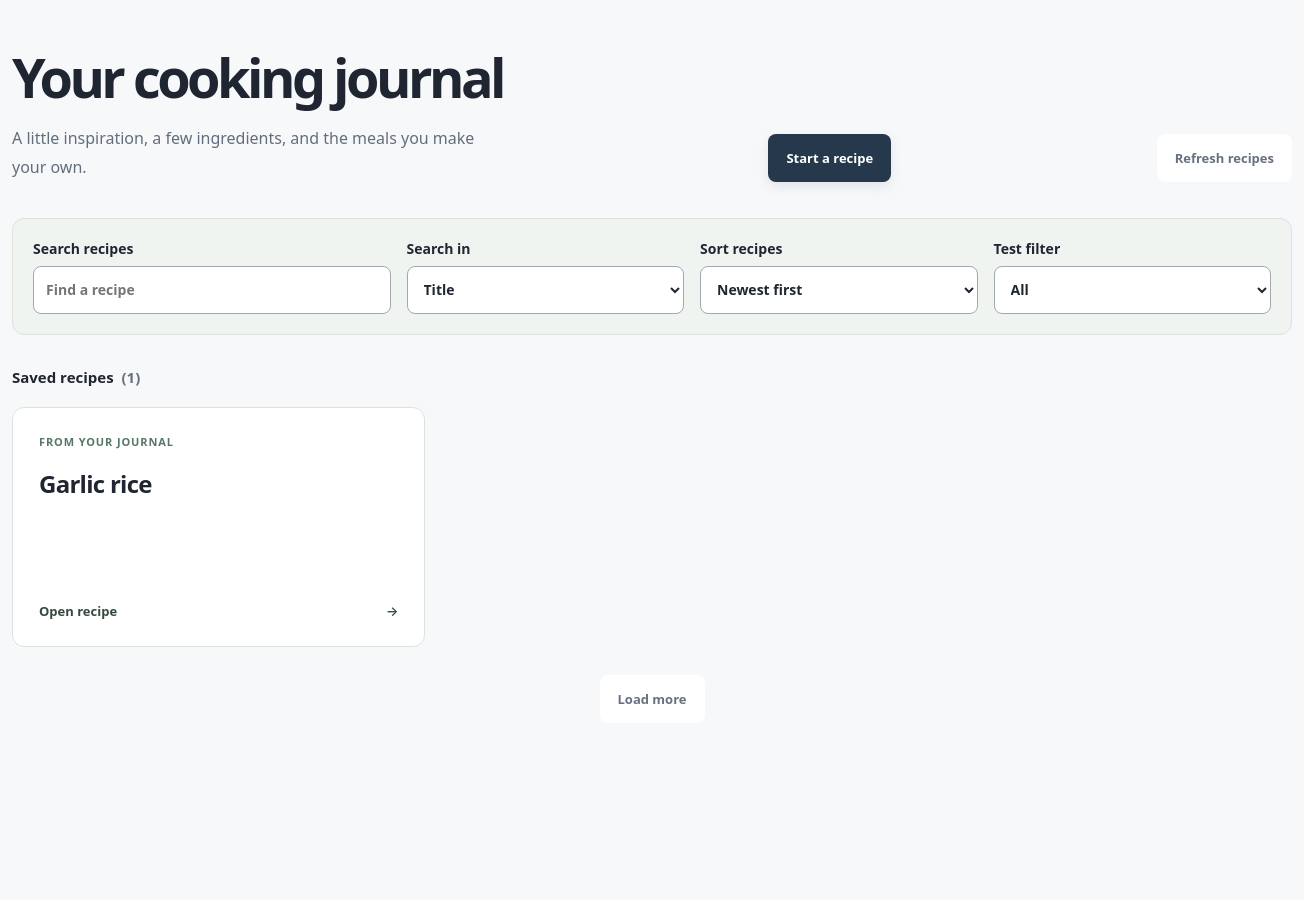
Test: retains loaded results after a next-page failure and retries the same continuation
This screenshot has width=1304, height=900.
Expected: the heading "Garlic rice" is shown, [39,467,152,500]
Click the button "Load more" at [652, 699], box [600,675,704,723]
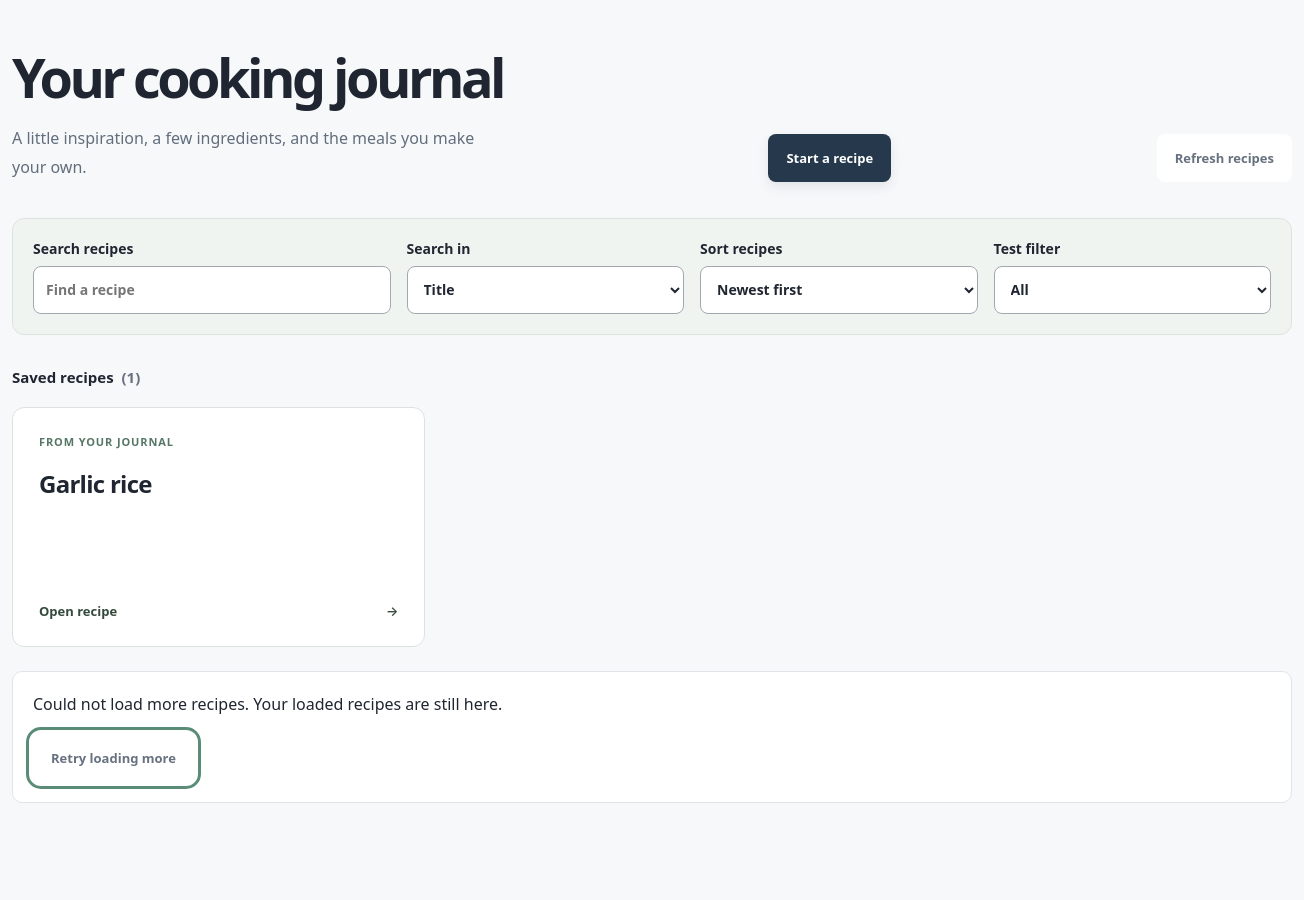
Expected: the heading "Garlic rice" is shown, [39,467,152,500]
Result: the message shows "Could not load more" at [33,693,502,715]
Click the button "Retry loading more" at [113, 758], box [33,734,194,782]
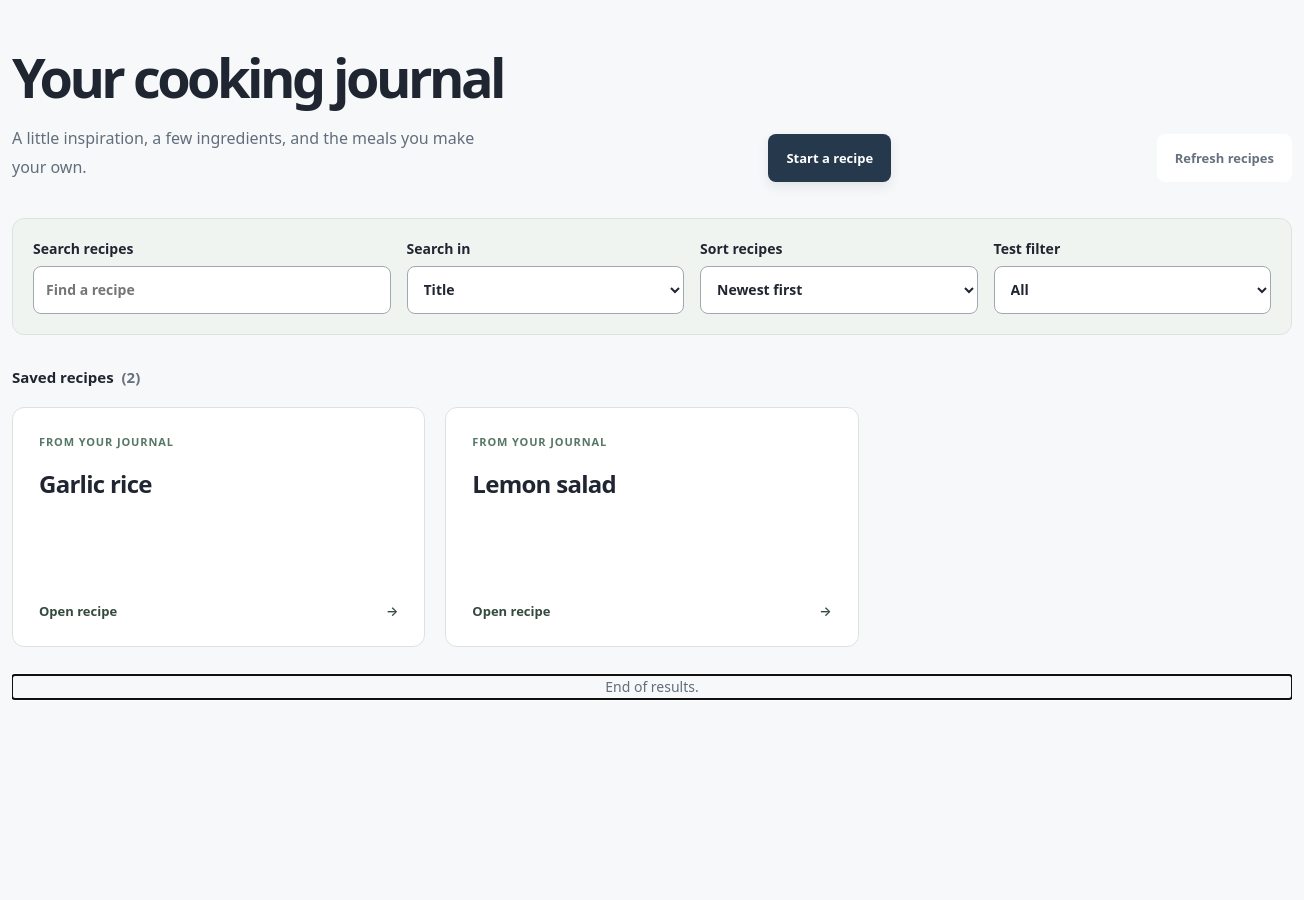
Expected: the heading "Garlic rice" is shown, [39,467,152,500]
Result: the heading "Lemon salad" is shown at [472,467,616,500]
Result: the text "End of results." is shown at [605,677,699,696]
